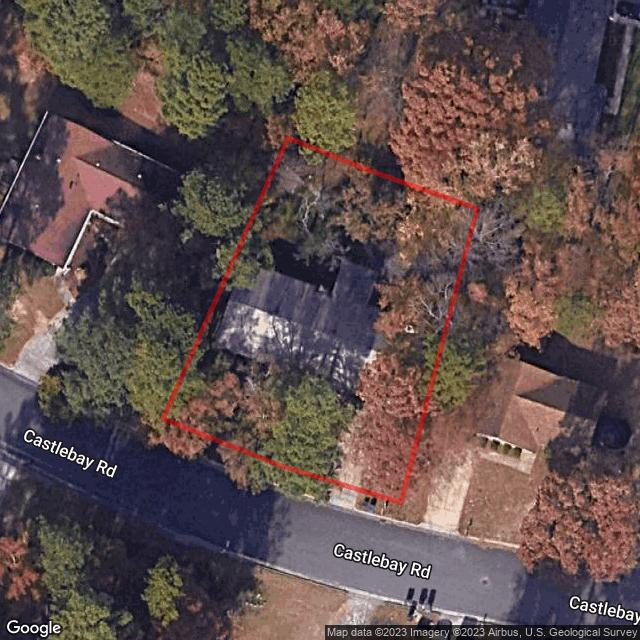Driveway: (328, 397, 382, 486)
Extra Driveway: (326, 485, 358, 508)
Extra Lawn: (152, 423, 329, 501)
House: (212, 258, 385, 394)
